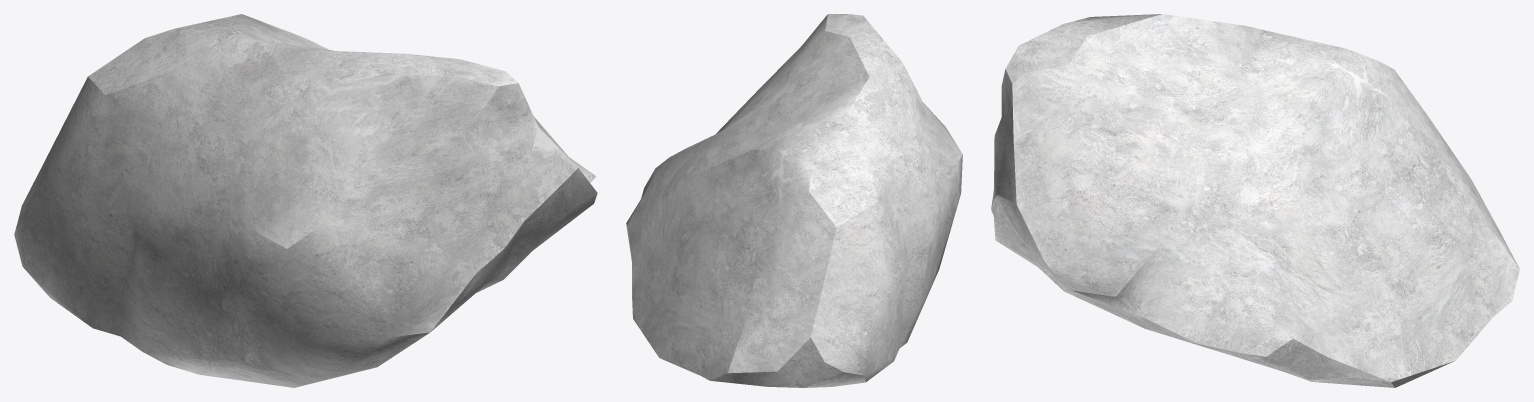
Rendered from rock_00_lp2.fbx.
The picture shows the model from 3 angles, left to right: view 1: azimuth 30°, elevation 25°; view 2: azimuth 150°, elevation 25°; view 3: azimuth 270°, elevation 25°; orthographic projection. The views are drawn at different scales.
Visible parts, largest first — view 1: rock_00_lp2; view 2: rock_00_lp2; view 3: rock_00_lp2.
Part boxes in pixels (left/top/right/bottom): rock_00_lp2: left=14, top=14, right=597, bottom=387; rock_00_lp2: left=626, top=14, right=962, bottom=387; rock_00_lp2: left=991, top=14, right=1519, bottom=387.
Size of the model in its own units: 197 by 147 by 226.
